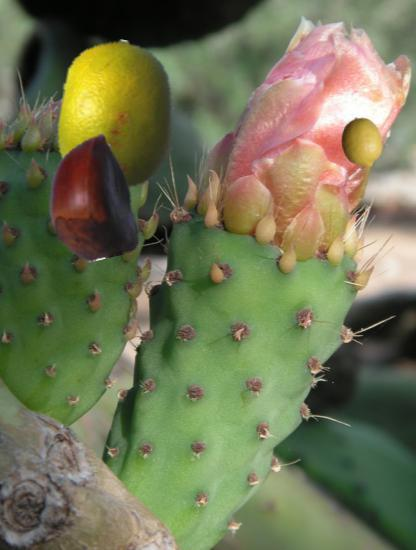Chestnut: (27, 137, 151, 261)
Lemon: (336, 117, 388, 169)
Pomelo: (44, 40, 193, 189)
